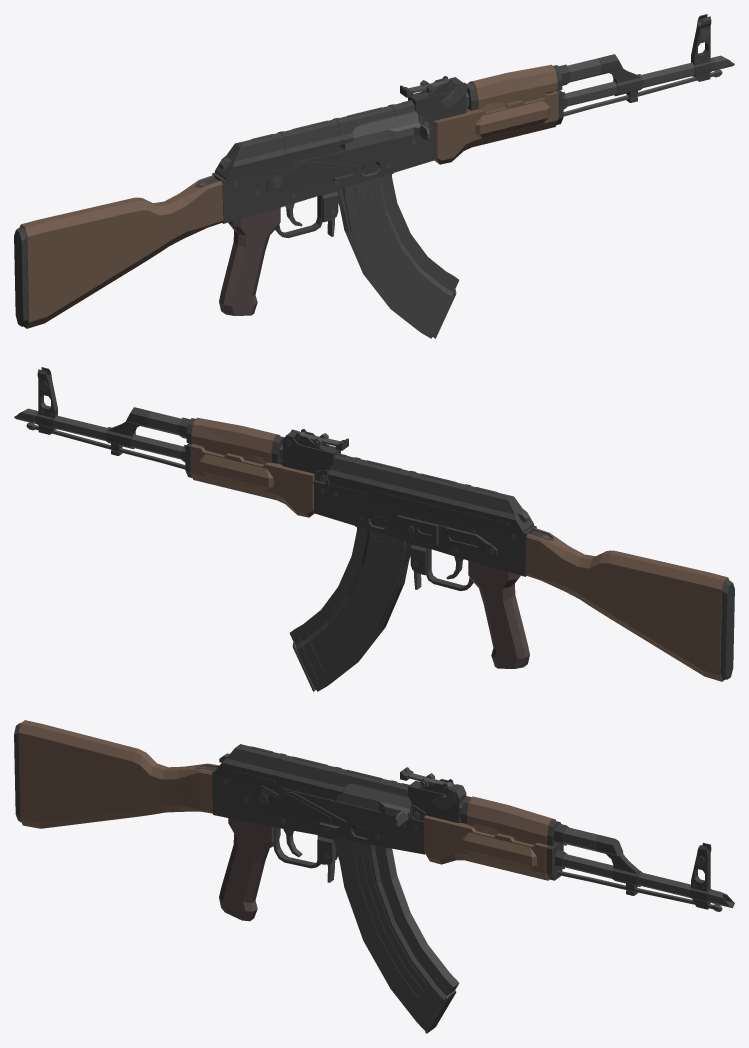
Rendered from akm.gltf.
3 views of the same model, one above another, from view 1: azimuth 30°, elevation 25°; view 2: azimuth 150°, elevation 25°; view 3: azimuth 330°, elevation 25° (orthographic).
Visible parts, largest first — view 1: gun, magazine, bolt; view 2: gun, magazine; view 3: gun, magazine, bolt.
Boxes of the visible parts, bbox=[...] form: gun: bbox=[14, 14, 734, 328]; magazine: bbox=[337, 173, 459, 338]; bolt: bbox=[339, 111, 429, 150]; gun: bbox=[14, 367, 734, 681]; magazine: bbox=[289, 526, 411, 691]; gun: bbox=[14, 720, 734, 921]; magazine: bbox=[333, 838, 459, 1033]; bolt: bbox=[336, 784, 411, 826].
Size of the model in its own units: 0.7473 by 0.2547 by 0.0441.
Materials: 1 (1 with a texture image).
